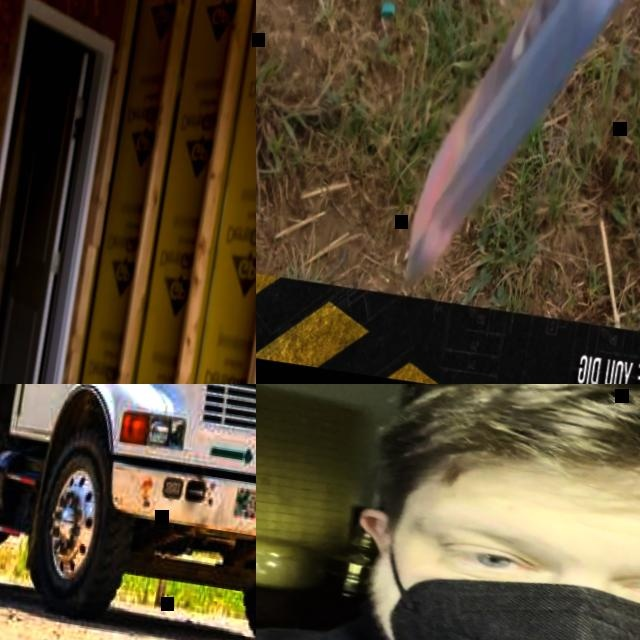Mask: (347, 527, 640, 640)
NO-Hardhat: (382, 384, 640, 554)
Person: (256, 384, 640, 640)
machinery: (0, 384, 256, 640)
